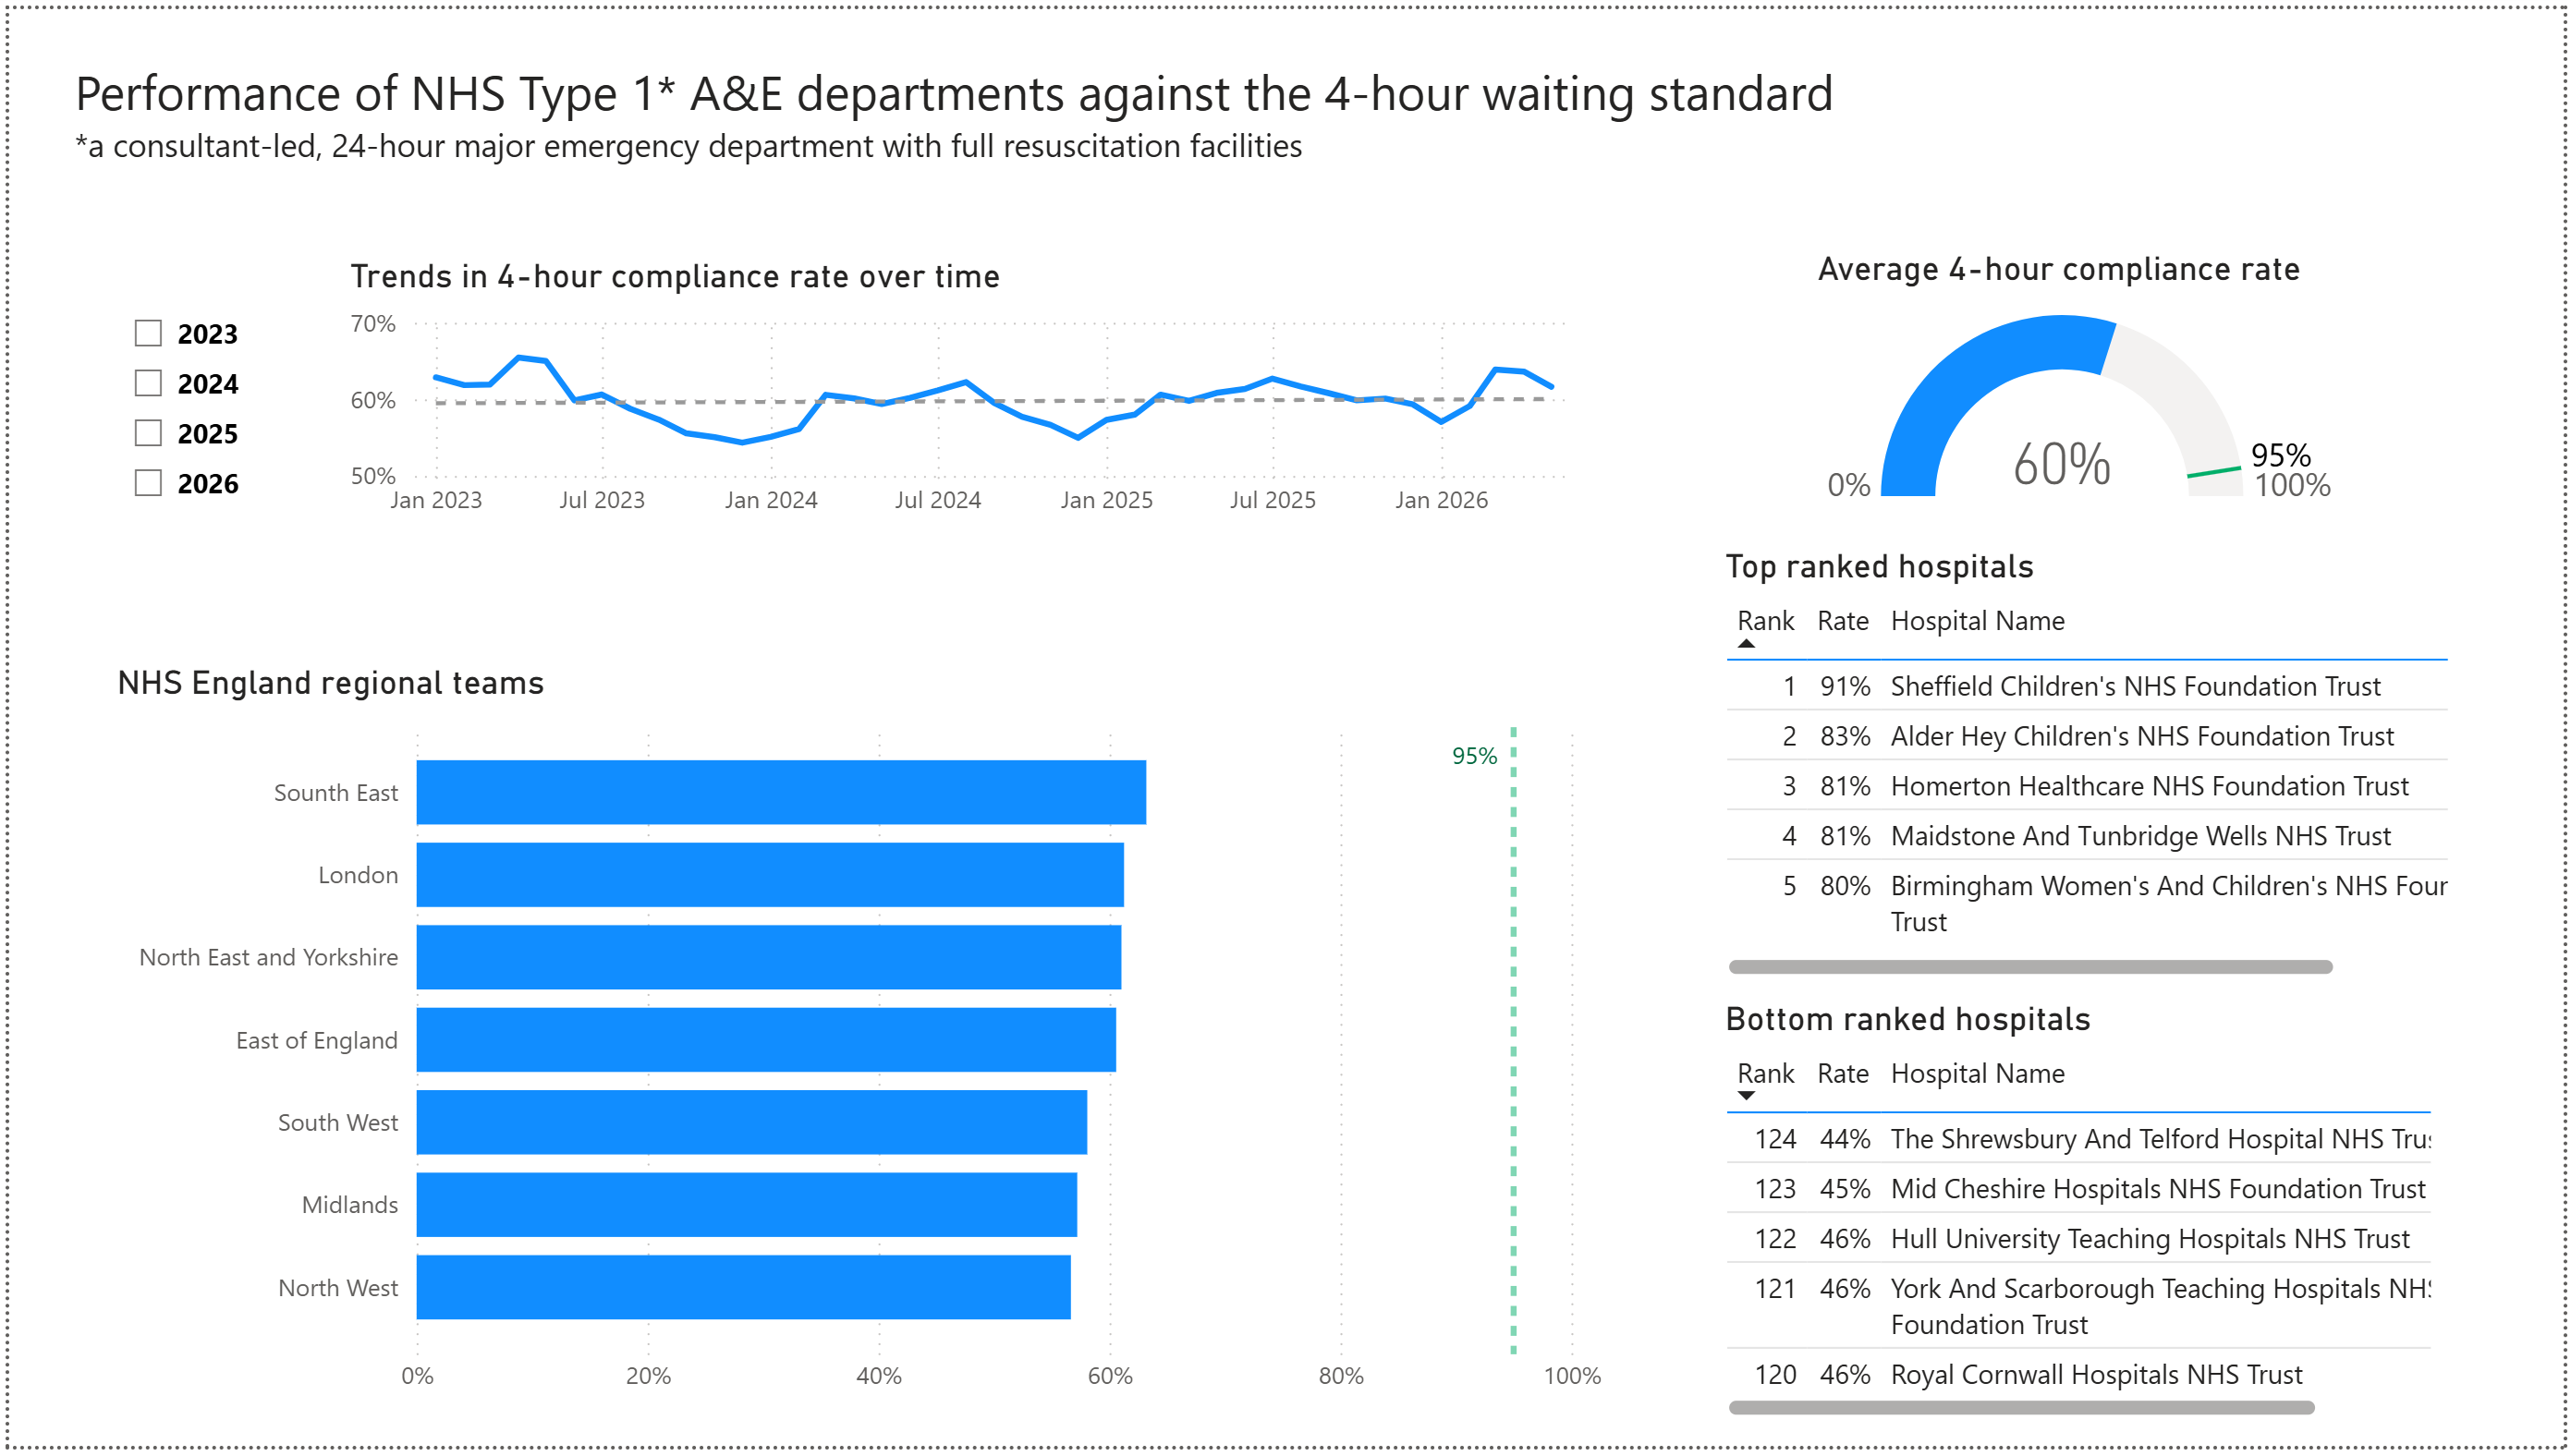

Layout of this report page (visuals, bound fields, positions):
{"tool":"powerbi","page":{"name":"Wating in A&E","canvas":[1280,720],"ordinal":0},"visuals":[{"type":"slicer","fields":{"Values":["Date.Date.Variation.Date Hierarchy.Year"]},"box":[49.8,144.6,115.9,123.9],"z":1000},{"type":"lineChart","title":"Trends in 4-hour compliance rate over time","fields":{"Y":["_Measures.4hrs Compliance Rate"],"Category":["Date.Date.Variation.Date Hierarchy.Year","Date.Date.Variation.Date Hierarchy.Month"]},"box":[165.8,123.8,635.8,139.8],"z":2000},{"type":"gauge","title":"Average 4-hour compliance rate","fields":{"Y":["_Measures.4hrs Compliance Rate"],"TargetValue":["_Measures.Copmliance Target"]},"box":[900.9,120.8,272.2,142.6],"z":3000},{"type":"barChart","title":"NHS England regional teams","fields":{"Y":["_Measures.4hrs Compliance Rate T1"],"Category":["Dim_Org_ref.Short Parent Org name"]},"box":[49.4,327.9,753.5,375.2],"z":4000},{"type":"tableEx","title":"Top ranked hospitals ","fields":{"Values":["_Measures.Hospital rank 4hr compliance rate","_Measures.4hrs Compliance Rate T1","Dim_Org_ref.Org name"]},"box":[854.3,269.3,372.2,219.8],"z":5000},{"type":"tableEx","title":"Bottom ranked hospitals","fields":{"Values":["_Measures.Hospital rank 4hr compliance rate","_Measures.4hrs Compliance Rate T1","Dim_Org_ref.Org name"]},"box":[854.3,496,363.3,213.8],"z":6000},{"type":"textbox","box":[28,19.9,944.4,80.5],"z":7000}]}

Visuals, with their boxes in screenshot pixels (x1, y1, x2, y2), scaled from the page's 1280x720 canvas onto the 2571x1456 screenshot:
slicer - Date.Date.Variation.Date Hierarchy.Year: {"x1": 100, "y1": 293, "x2": 333, "y2": 543}
"Trends in 4-hour compliance rate over time" lineChart: {"x1": 333, "y1": 250, "x2": 1610, "y2": 533}
"Average 4-hour compliance rate" gauge: {"x1": 1809, "y1": 244, "x2": 2357, "y2": 533}
"NHS England regional teams" barChart: {"x1": 99, "y1": 663, "x2": 1613, "y2": 1422}
"Top ranked hospitals " tableEx: {"x1": 1716, "y1": 544, "x2": 2464, "y2": 989}
"Bottom ranked hospitals" tableEx: {"x1": 1716, "y1": 1003, "x2": 2445, "y2": 1436}
textbox: {"x1": 56, "y1": 41, "x2": 1953, "y2": 203}
